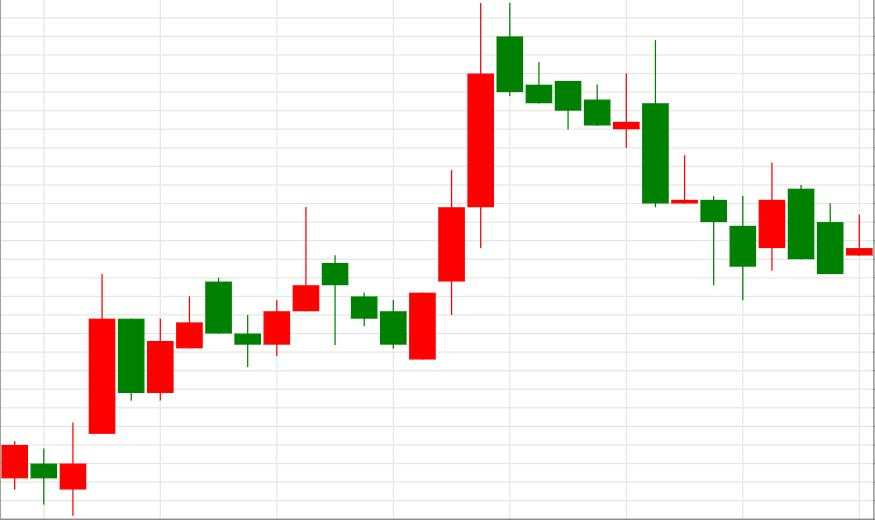three_white_soldiers_rise: (322, 4, 493, 360)
